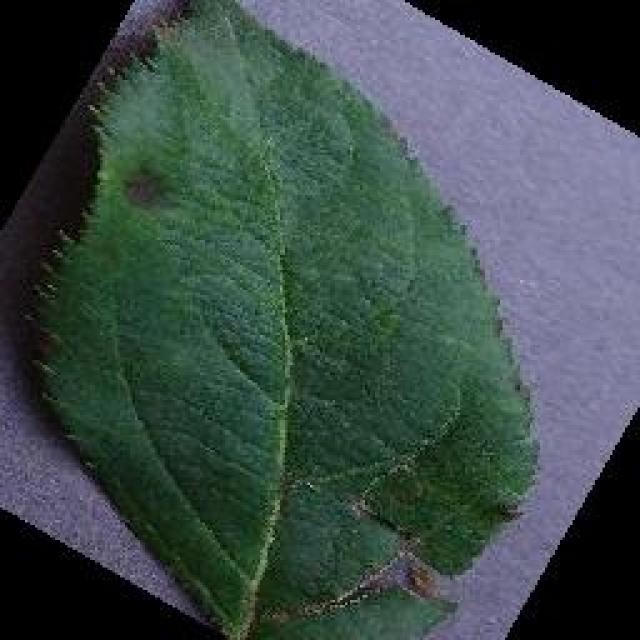apple scab disease: (28, 0, 542, 638)
